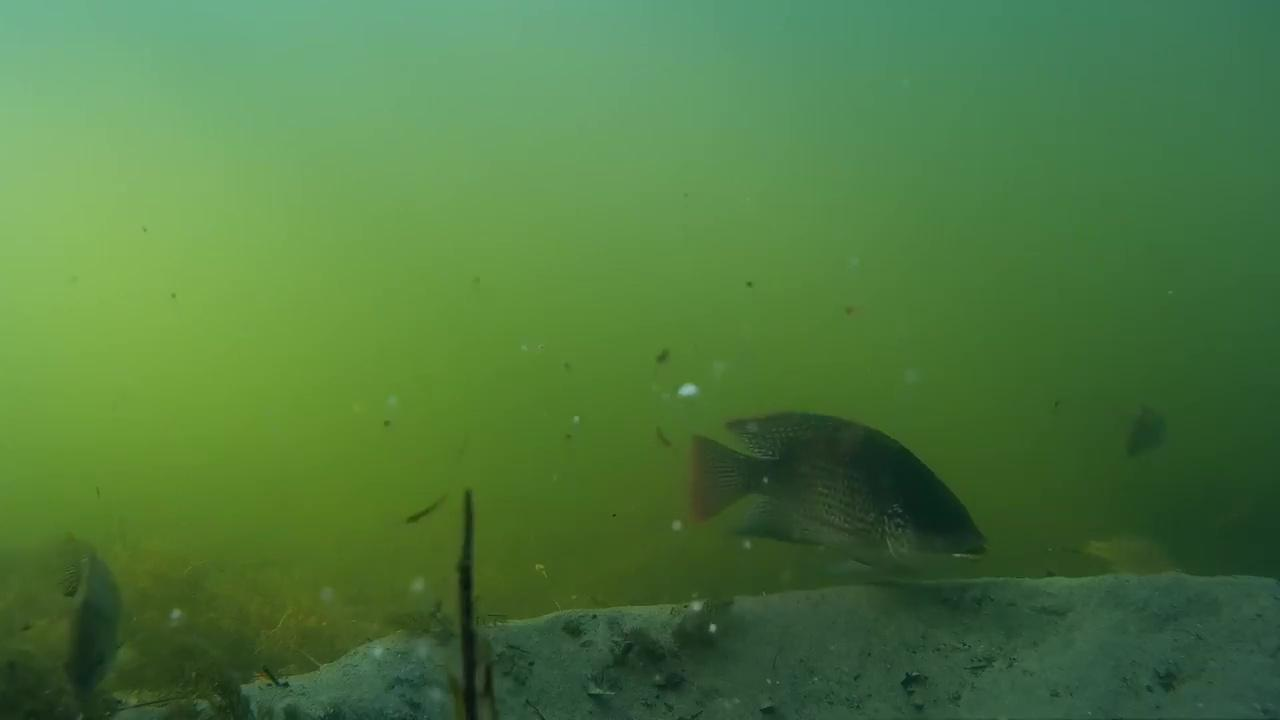Tilapia: (680, 404, 993, 574), (1125, 398, 1170, 468)
